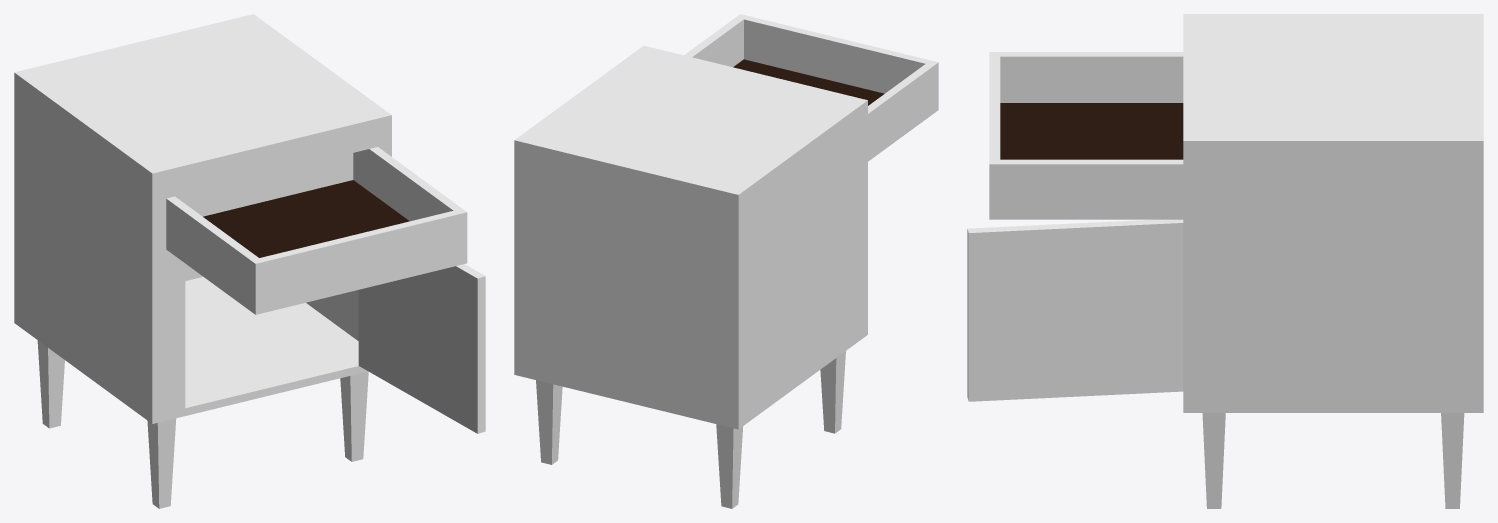
3 renders of one model, left to right at view 1: azimuth 30°, elevation 25°; view 2: azimuth 150°, elevation 25°; view 3: azimuth 270°, elevation 25°, orthographic. The views are drawn at different scales.
Parts seen in each view (by area): view 1: 1-base, 4-mov-b, 3-mov-a, 2-feet; view 2: 1-base, 4-mov-b, 2-feet; view 3: 1-base, 3-mov-a, 4-mov-b, 2-feet.
Part boxes in pixels (x1=…): 1-base: x1=14, y1=14, x2=391, y2=423; 4-mov-b: x1=166, y1=147, x2=467, y2=314; 3-mov-a: x1=358, y1=264, x2=485, y2=433; 2-feet: x1=37, y1=340, x2=368, y2=508; 1-base: x1=514, y1=45, x2=867, y2=429; 4-mov-b: x1=684, y1=14, x2=938, y2=161; 2-feet: x1=536, y1=351, x2=845, y2=508; 1-base: x1=1183, y1=14, x2=1483, y2=412; 3-mov-a: x1=967, y1=219, x2=1183, y2=401; 4-mov-b: x1=989, y1=52, x2=1183, y2=219; 2-feet: x1=1202, y1=413, x2=1464, y2=508.
Size of the model in its own units: 2 by 2.78 by 3.44.
